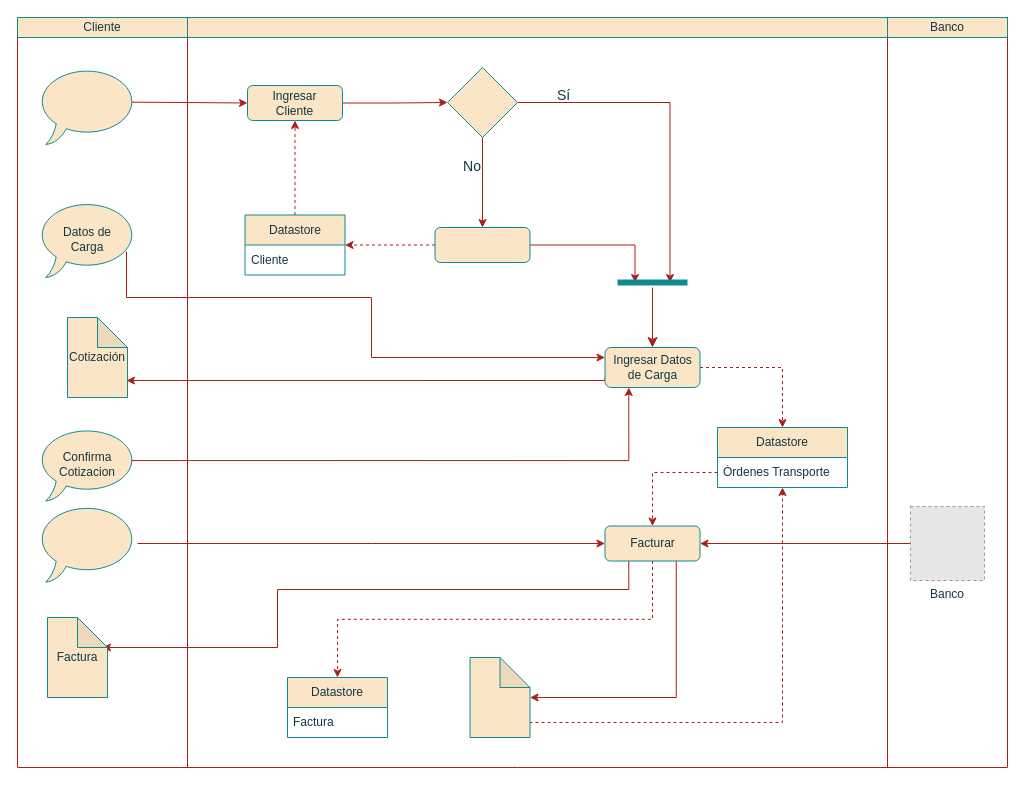
Some shapes in this 1026 by 786 pixel diagram are drawn without their labels. Grey dashed boxes stand in for pictures. The box of each missing label's shape, as (x1, y1, x2, y2) in pixels:
Asesor Comercial: (186, 16, 888, 38)
Avisa Pago: (36, 504, 138, 582)
Datos de Cliente: (36, 66, 138, 144)
Orden Transporte: (469, 656, 530, 738)
Registrar Cliente: (434, 226, 530, 262)
¿Existe Cliente?: (446, 66, 518, 138)
